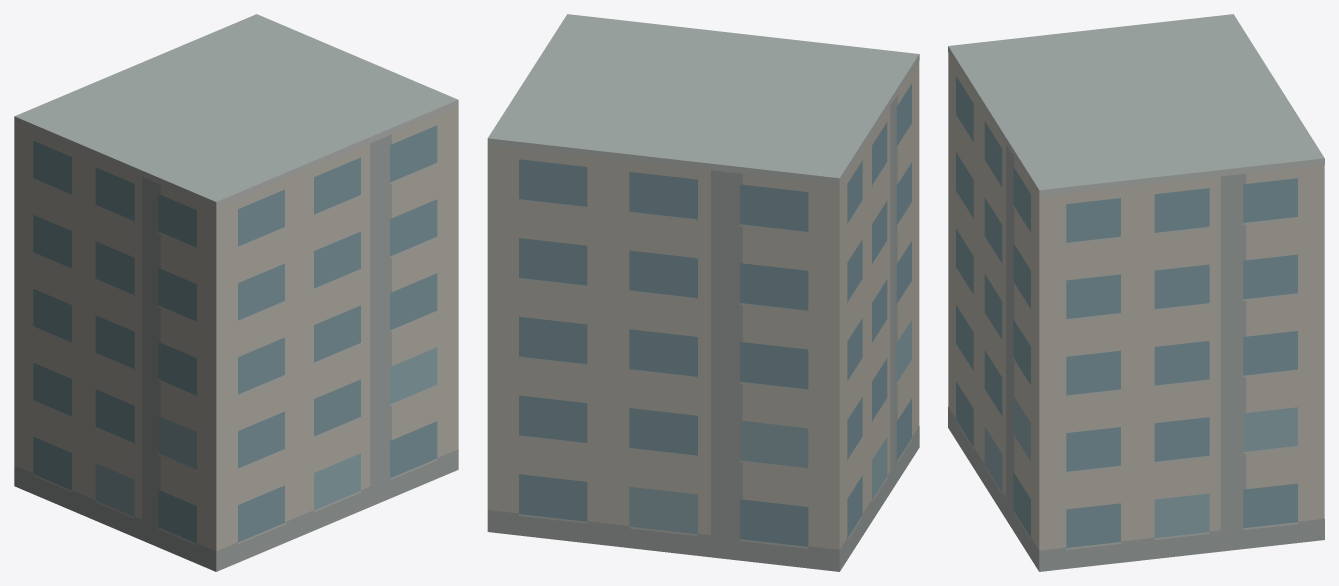
The model's file is survey-upis-32721496.glb.
3 renders of one model, left to right at view 1: azimuth 30°, elevation 25°; view 2: azimuth 150°, elevation 25°; view 3: azimuth 270°, elevation 25°, orthographic. The views are drawn at different scales.
Parts seen in each view (by area): view 1: survey-upis-32721496.tmp; view 2: survey-upis-32721496.tmp; view 3: survey-upis-32721496.tmp.
Boxes of the visible parts, left/top/right/bottom form: survey-upis-32721496.tmp: left=14, top=14, right=458, bottom=571; survey-upis-32721496.tmp: left=487, top=14, right=919, bottom=571; survey-upis-32721496.tmp: left=948, top=14, right=1324, bottom=571.
Size of the model in its own units: 14.22 by 14.35 by 12.85.
